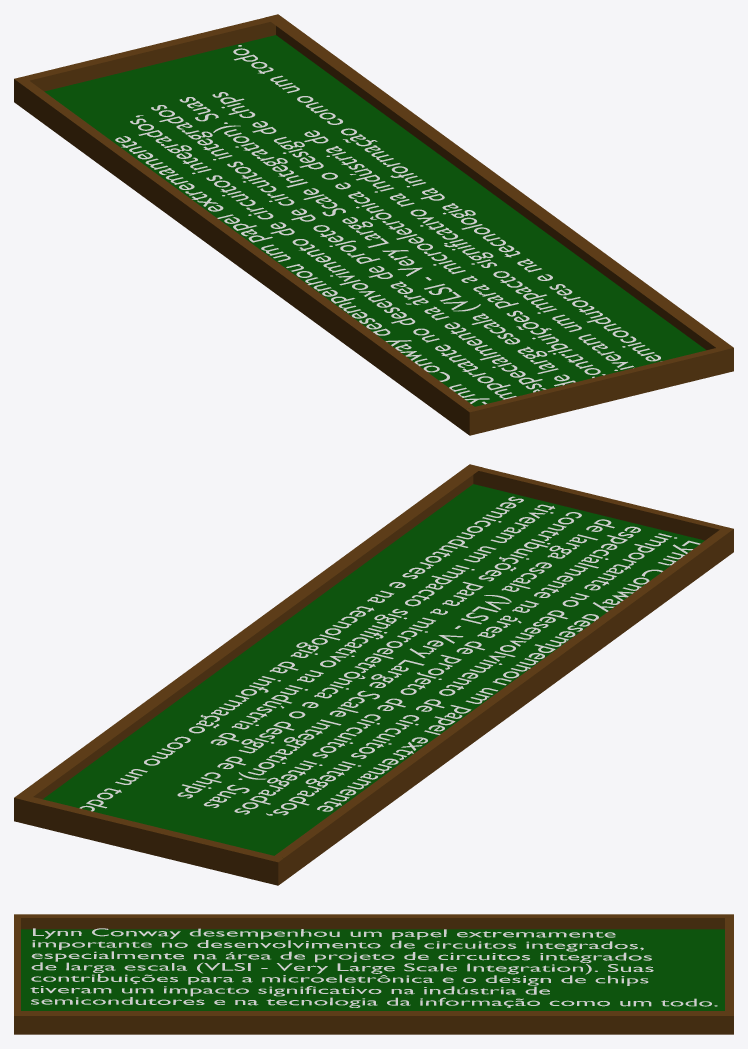
Rendered from Lynn2.fbx.
The picture shows the model from 3 angles, top to bottom: view 1: azimuth 30°, elevation 25°; view 2: azimuth 150°, elevation 25°; view 3: azimuth 270°, elevation 25°; orthographic projection. The views are drawn at different scales.
Visible parts, largest first — view 1: Cube, Text; view 2: Cube, Text; view 3: Cube, Text.
Part boxes in pixels (x1=…): Cube: x1=14, y1=14, x2=733, y2=435; Text: x1=115, y1=45, x2=661, y2=404; Cube: x1=14, y1=464, x2=733, y2=885; Text: x1=79, y1=496, x2=700, y2=815; Cube: x1=14, y1=914, x2=733, y2=1034; Text: x1=30, y1=928, x2=717, y2=1007.
Bounding box in the file's own units: 624 × 53.07 × 1865.
